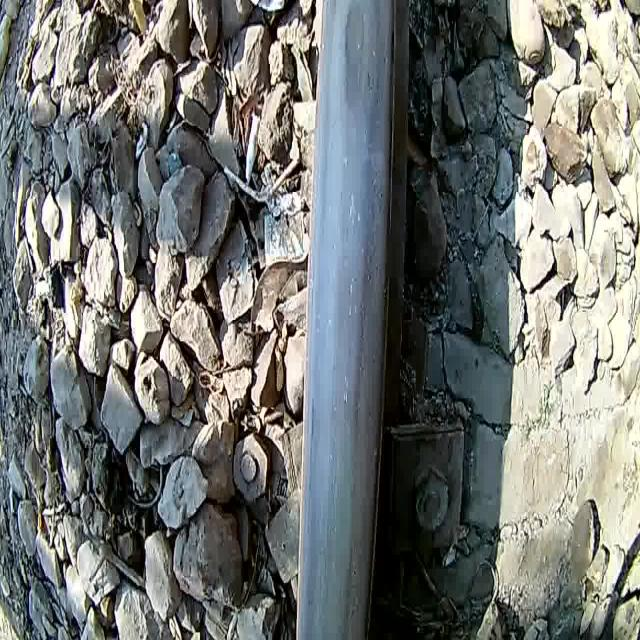Squats: (310, 0, 412, 133)
